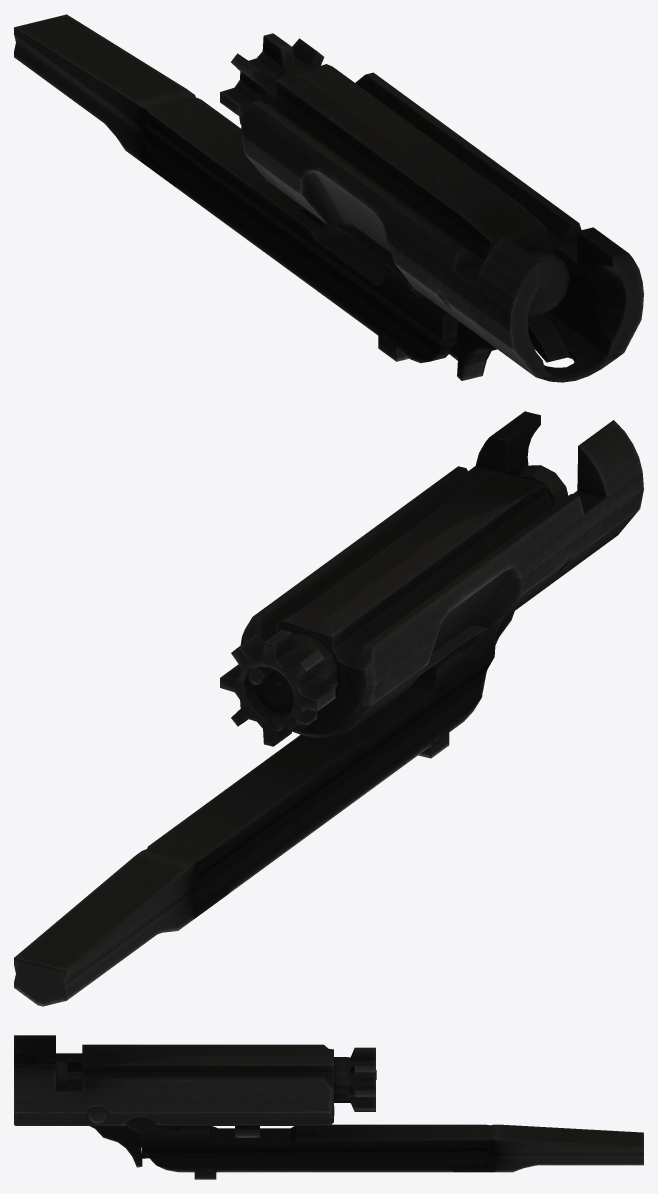
The picture shows the model from 3 angles, top to bottom: view 1: azimuth 30°, elevation 25°; view 2: azimuth 150°, elevation 25°; view 3: azimuth 270°, elevation 25°; orthographic projection. The views are drawn at different scales.
Visible parts, largest first — view 1: TW_5fbcc1d9016cce60e8341ab3_PZ_Import; view 2: TW_5fbcc1d9016cce60e8341ab3_PZ_Import; view 3: TW_5fbcc1d9016cce60e8341ab3_PZ_Import.
Part boxes in pixels (left/top/right/bottom): TW_5fbcc1d9016cce60e8341ab3_PZ_Import: left=14, top=14, right=643, bottom=382; TW_5fbcc1d9016cce60e8341ab3_PZ_Import: left=14, top=411, right=643, bottom=1006; TW_5fbcc1d9016cce60e8341ab3_PZ_Import: left=14, top=1035, right=643, bottom=1179.
Size of the model in its own units: 0.0147 by 0.1016 by 0.0225.
1 material, 1 textured.
